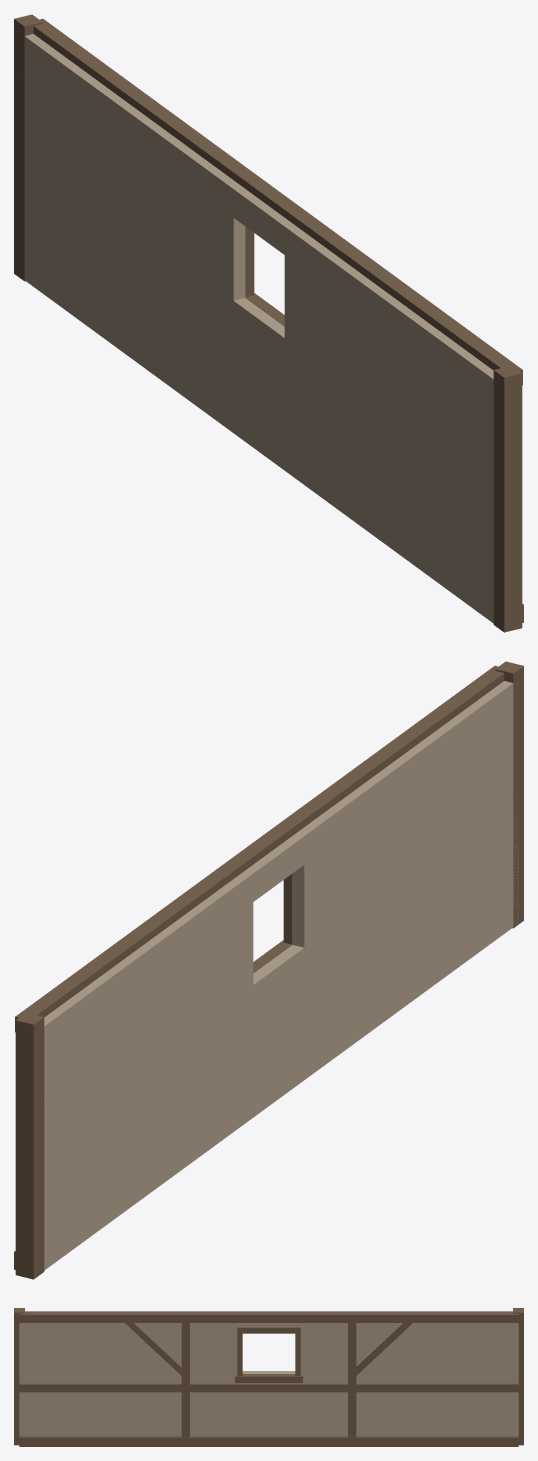
Rendered from beam_A.glb.
The picture shows the model from 3 angles, top to bottom: view 1: azimuth 30°, elevation 25°; view 2: azimuth 150°, elevation 25°; view 3: azimuth 270°, elevation 25°; orthographic projection. The views are drawn at different scales.
Visible parts, largest first — view 1: MOD01_Bay_3_Infill, MOD01_Bay_1_Infill, MOD01_Bay_2_Infill, 08A_SideWallPlate.006, 08A_CornerPost.012, 08A_CornerPost.013; view 2: MOD01_Bay_1_Infill, MOD01_Bay_3_Infill, MOD01_Bay_2_Infill, 08A_SideWallPlate.006, 08A_CornerPost.013, 08A_CornerPost.012; view 3: MOD01_Bay_1_Infill, MOD01_Bay_3_Infill, MOD01_Bay_2_Infill, 08A_SideWallPlate.006, ART01_SideSill, ART01_MidRail, ART01_IntermediatePost_1, ART01_IntermediatePost_2, 08A_CornerPost.012, 08A_CornerPost.013, MOD01_Bay_2_sill, ART01_KneeBrace_1 (+4 smaller).
Boxes of the visible parts, x1,y1,x2,y2 form: MOD01_Bay_3_Infill: (24, 34, 187, 392); MOD01_Bay_1_Infill: (339, 264, 493, 623); MOD01_Bay_2_Infill: (179, 147, 347, 509); 08A_SideWallPlate.006: (33, 18, 522, 385); 08A_CornerPost.012: (493, 365, 522, 632); 08A_CornerPost.013: (14, 14, 42, 281); MOD01_Bay_1_Infill: (350, 681, 518, 1039); MOD01_Bay_3_Infill: (44, 911, 198, 1270); MOD01_Bay_2_Infill: (190, 794, 358, 1156); 08A_SideWallPlate.006: (15, 665, 504, 1032); 08A_CornerPost.013: (15, 1012, 44, 1279); 08A_CornerPost.012: (495, 661, 523, 928); MOD01_Bay_1_Infill: (19, 1323, 181, 1435); MOD01_Bay_3_Infill: (356, 1323, 518, 1435); MOD01_Bay_2_Infill: (190, 1323, 347, 1435); 08A_SideWallPlate.006: (19, 1311, 518, 1322); ART01_SideSill: (19, 1436, 518, 1446); ART01_MidRail: (19, 1383, 518, 1392); ART01_IntermediatePost_1: (181, 1323, 189, 1437); ART01_IntermediatePost_2: (348, 1323, 356, 1437); 08A_CornerPost.012: (14, 1308, 24, 1445); 08A_CornerPost.013: (513, 1308, 523, 1445); MOD01_Bay_2_sill: (235, 1374, 302, 1382); ART01_KneeBrace_1: (125, 1323, 181, 1375).
Size of the model in its own units: 0.22 by 2.14 by 7.46.
